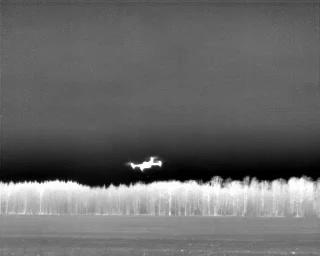DRONE: (123, 152, 168, 176)
